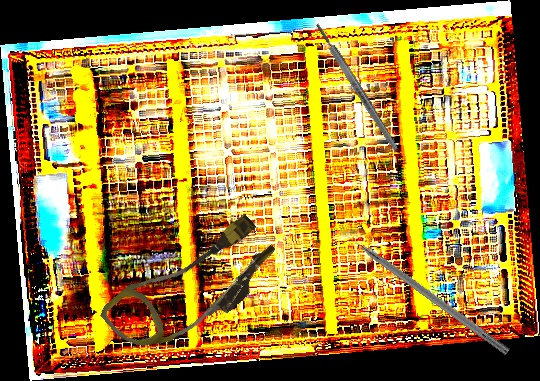Cannula: (97, 196, 287, 378)
Hook Surgical: (339, 226, 512, 356)
Scalpel Handle: (312, 21, 401, 153)
